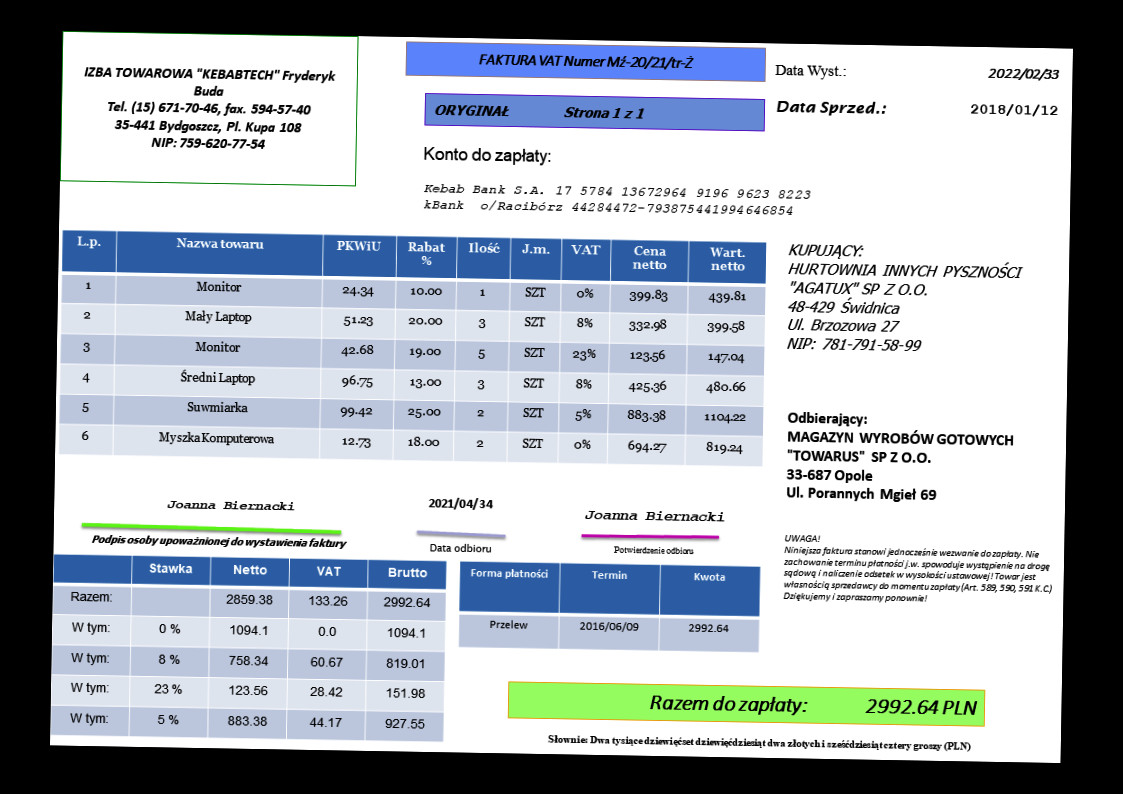Table: (57, 229, 767, 467), (51, 553, 448, 742), (458, 561, 761, 653)
TextBox: (784, 240, 1025, 356), (81, 64, 338, 155), (784, 409, 1016, 507), (782, 530, 1056, 607), (422, 180, 814, 220), (647, 692, 979, 721), (545, 732, 973, 754), (89, 531, 346, 551), (477, 51, 696, 73), (433, 100, 648, 121), (421, 143, 554, 168), (582, 507, 726, 525), (775, 96, 887, 119), (166, 497, 296, 514), (967, 100, 1060, 119), (984, 65, 1063, 83), (773, 61, 847, 80), (426, 495, 495, 514), (612, 544, 695, 557), (427, 541, 492, 555)
